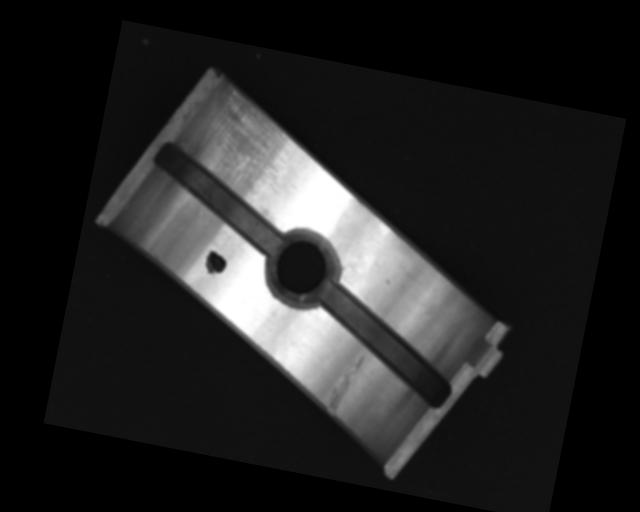blot: (202, 248, 229, 278)
bruise: (383, 277, 392, 289)
gap: (304, 280, 465, 408), (140, 140, 297, 256)
hole: (261, 223, 344, 312)
nick: (324, 349, 365, 420)
scratch: (188, 83, 305, 204)
